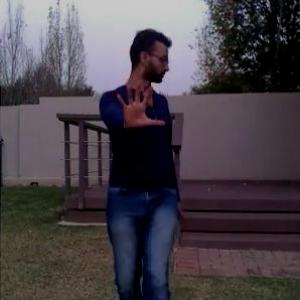follow_hand: (115, 76, 167, 131)
